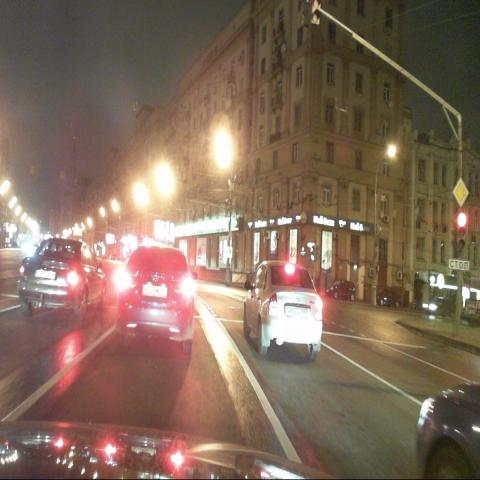6_16: (448, 258, 470, 271)
